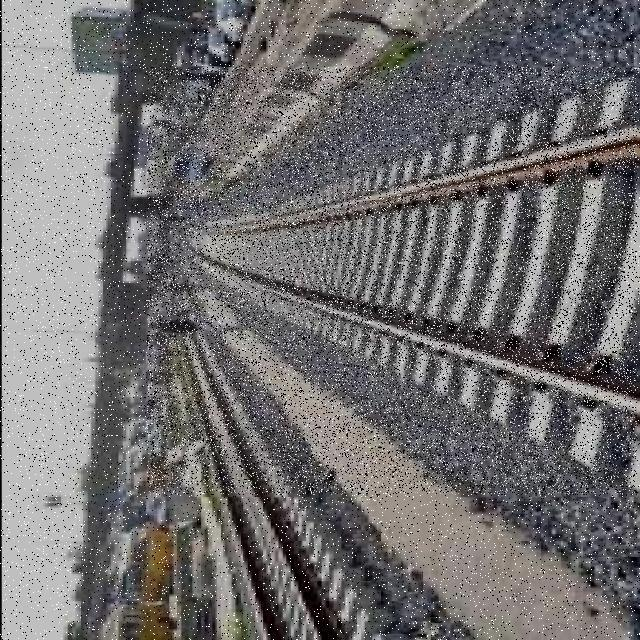rail: (147, 68, 637, 495)
